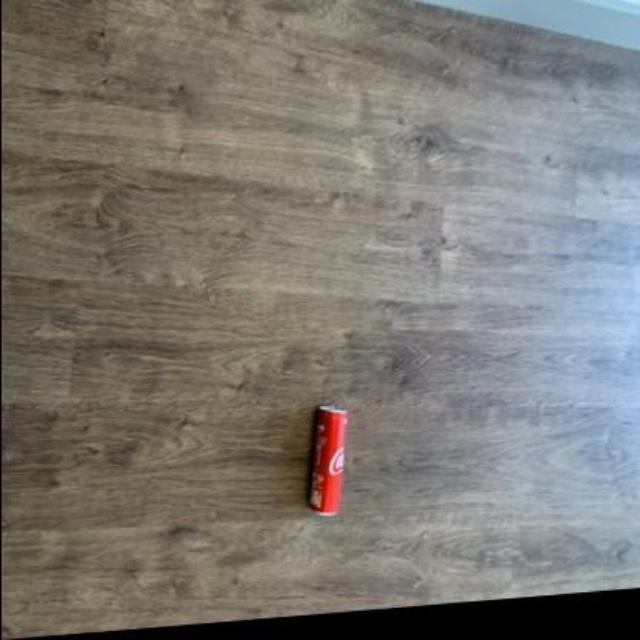trash: (309, 406, 345, 514)
